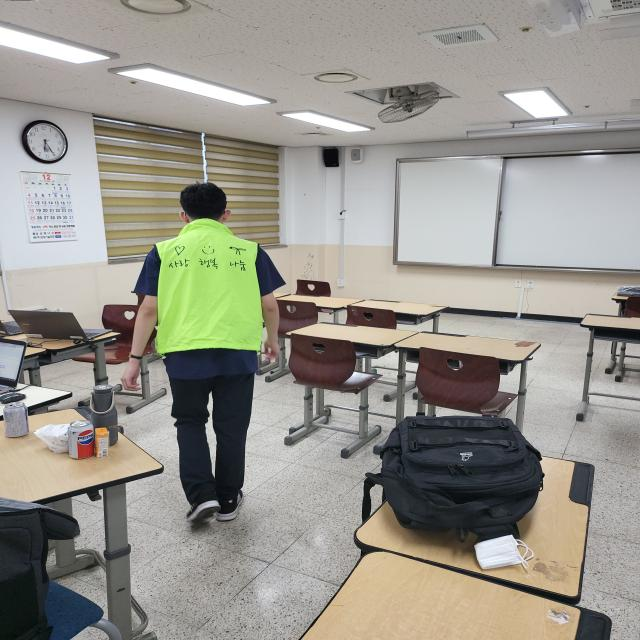weston_spy: (137, 207, 294, 388)
